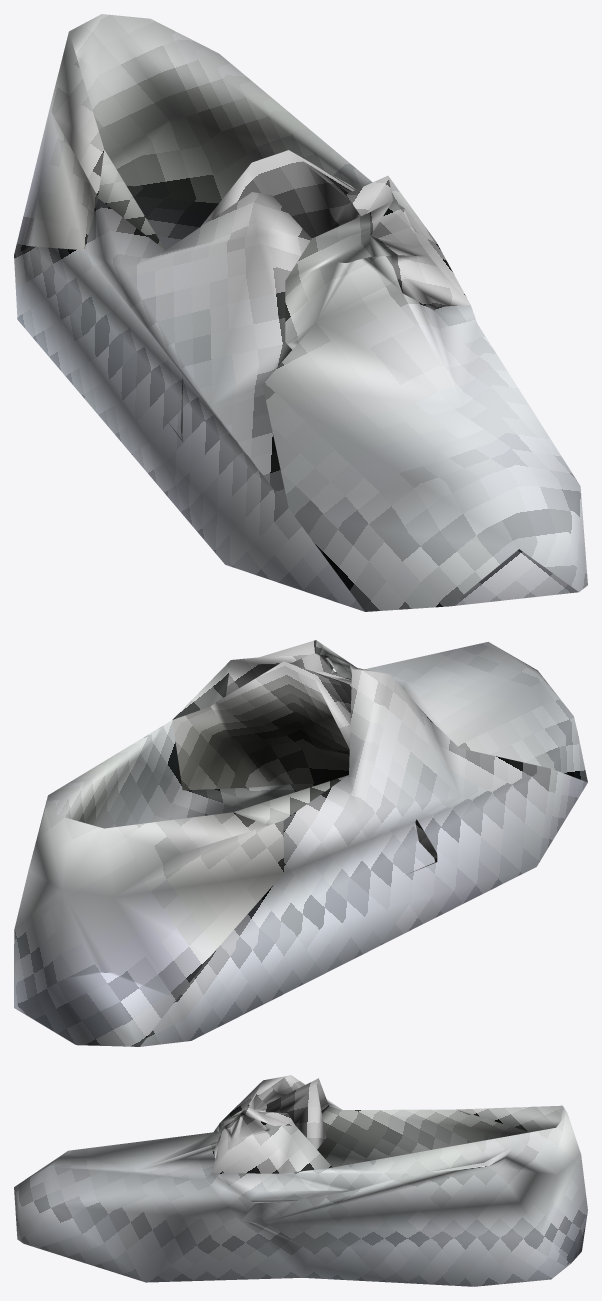
The model's file is Womens_Canvas_Bahama_in_White_4UyOhP6rYGO-low.glb.
The picture shows the model from 3 angles, top to bottom: view 1: azimuth 30°, elevation 25°; view 2: azimuth 150°, elevation 25°; view 3: azimuth 270°, elevation 25°; orthographic projection. The views are drawn at different scales.
Visible parts, largest first — view 1: Womens_Canvas_Bahama_in_White_4UyOhP6rYGO; view 2: Womens_Canvas_Bahama_in_White_4UyOhP6rYGO; view 3: Womens_Canvas_Bahama_in_White_4UyOhP6rYGO.
Part boxes in pixels (left/top/right/bottom): Womens_Canvas_Bahama_in_White_4UyOhP6rYGO: left=14, top=14, right=587, bottom=611; Womens_Canvas_Bahama_in_White_4UyOhP6rYGO: left=14, top=640, right=587, bottom=1046; Womens_Canvas_Bahama_in_White_4UyOhP6rYGO: left=14, top=1075, right=587, bottom=1286.
Bounding box in the file's own units: 0.0889 × 0.0791 × 0.2428.
Materials: 1 (1 with a texture image).
